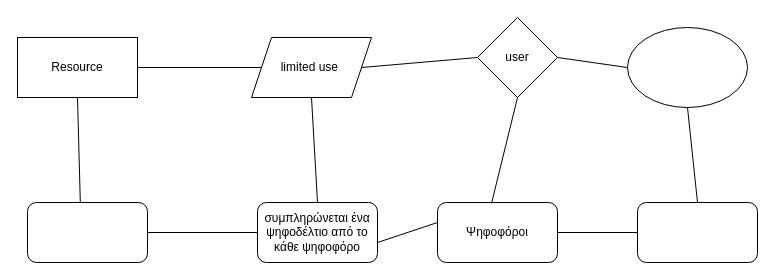
The diagram is 775 pixels wide and 280 high, and some of its shapes have lost their labels. Here are the shapes that lost their labels. From the top down, the box of each, then its label:
(626, 26, 748, 108): get unit
(26, 202, 148, 262): Στοιχεία ψηφοφόρων
(636, 202, 758, 262): καταχώρηση ψήφου
